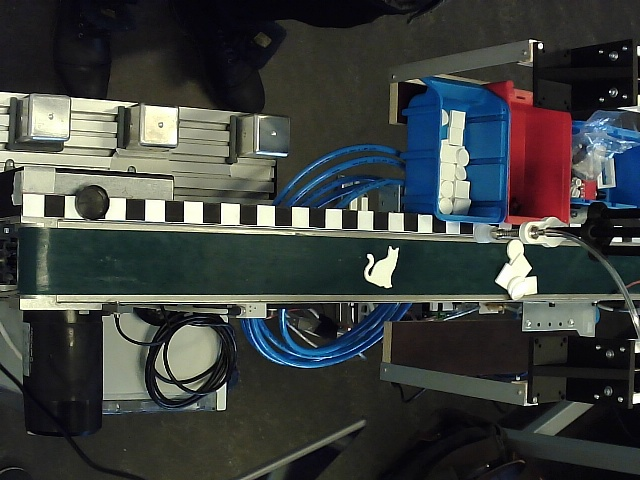cat: (364, 246, 399, 289)
